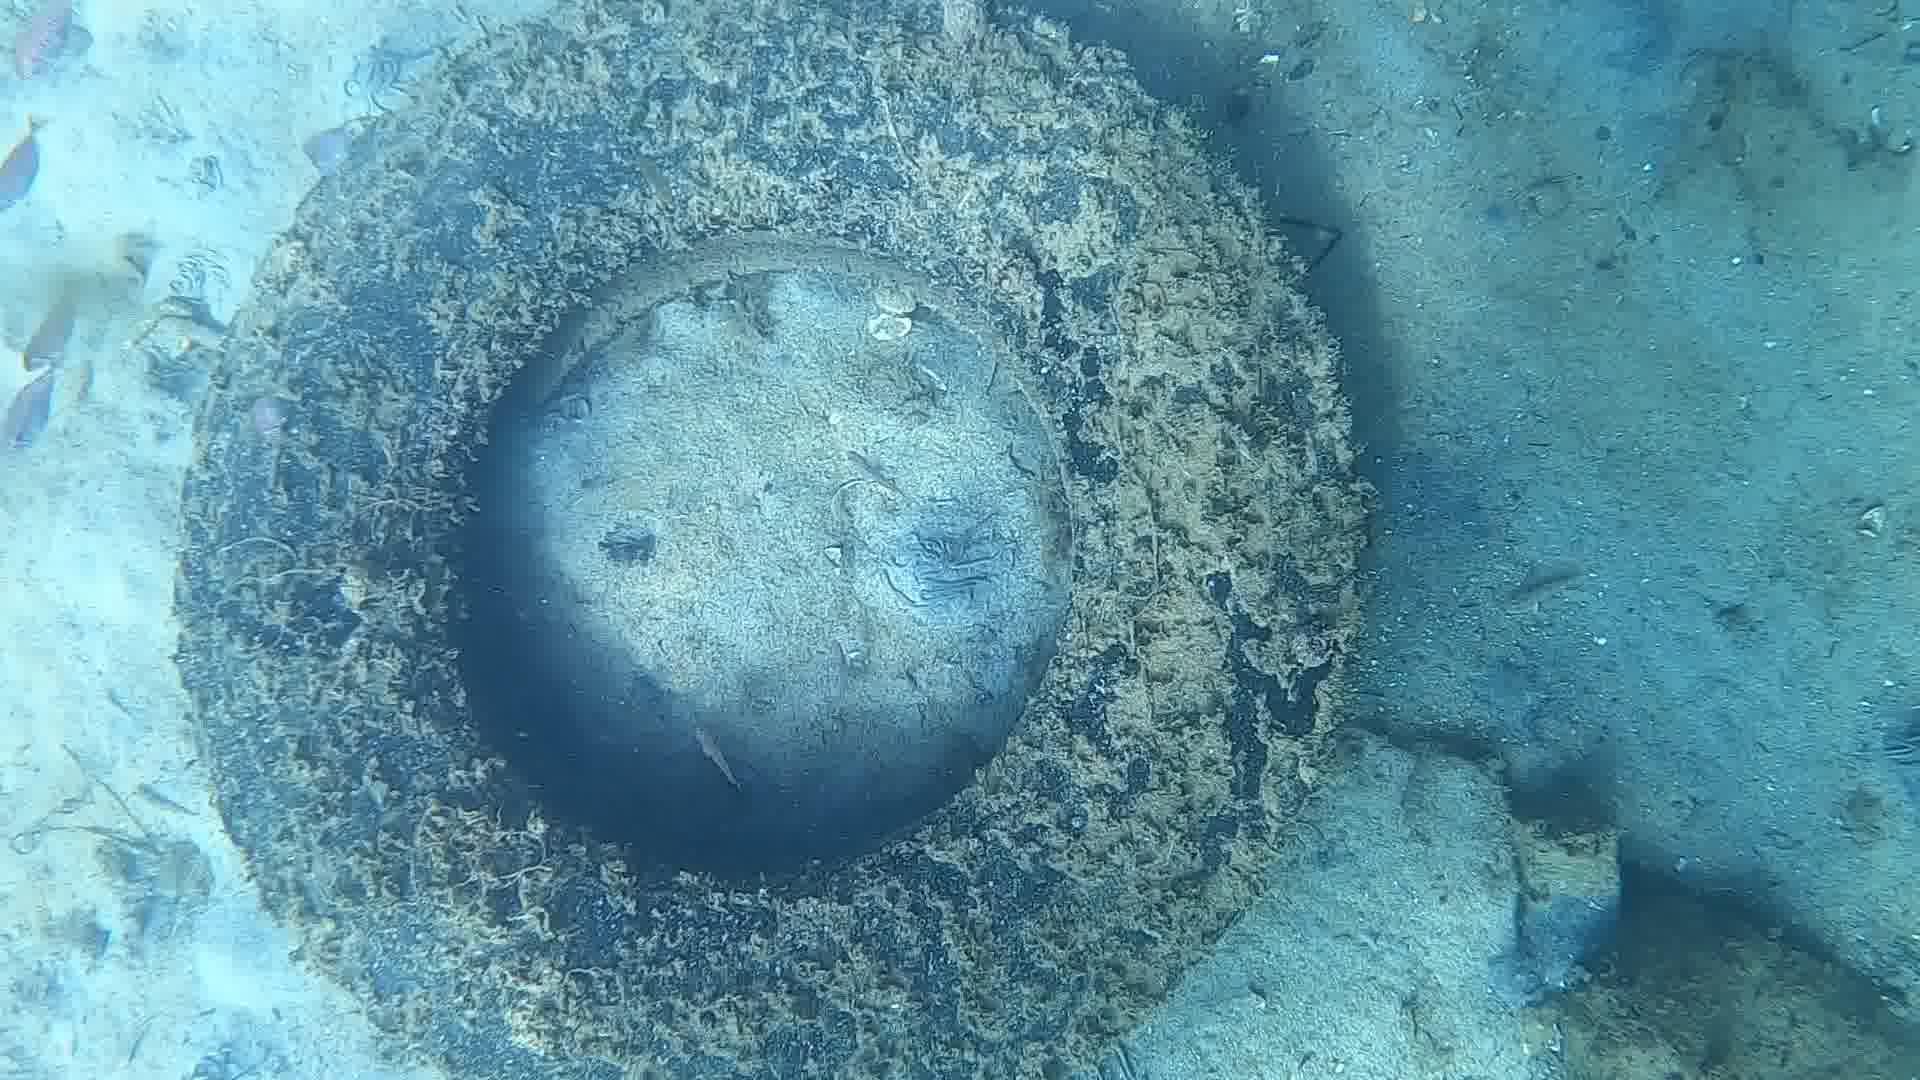tire: (166, 5, 1365, 1080)
